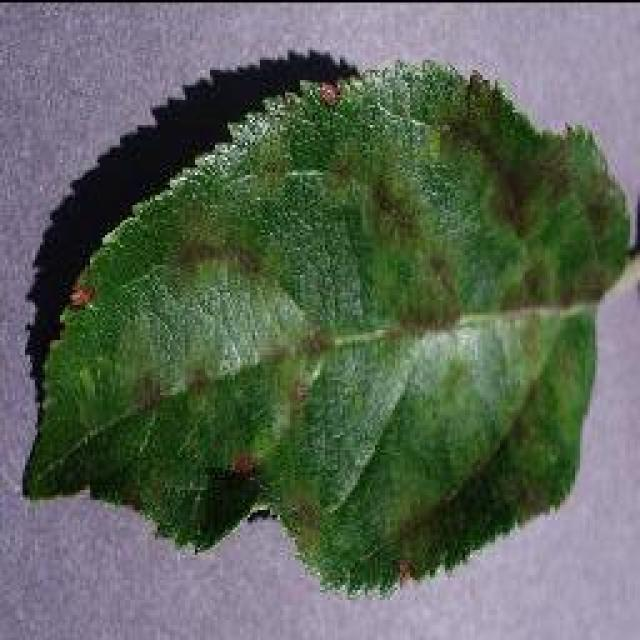apple scab disease: (20, 55, 638, 597)
